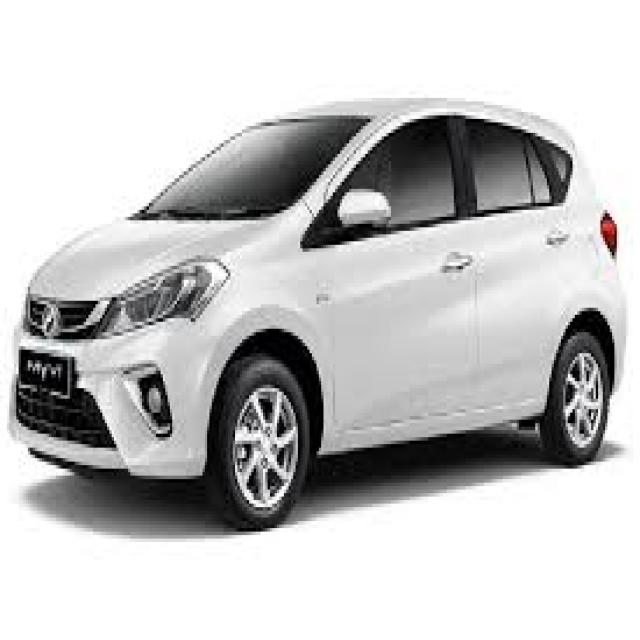PeroduaMyvi: (7, 91, 628, 532)
